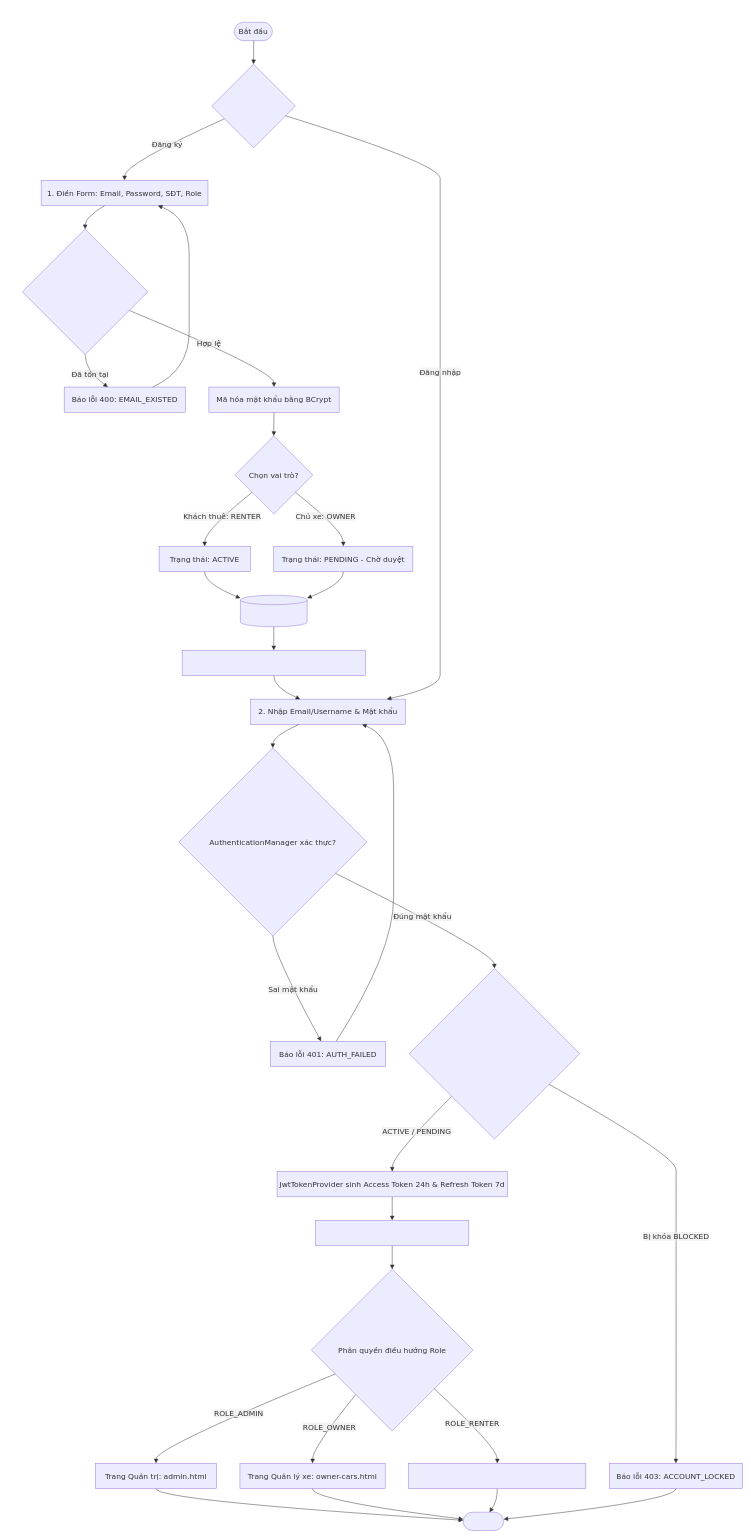
The diagram is 751 pixels wide and 1539 high, and some of its shapes have lost their labels. The shapes that lost their labels are listed below. From the top down, each one's box as (x1, y1, x2, y2) in pixels, then its label:
(211, 64, 295, 148): Chọn thao tác
(22, 229, 148, 355): Kiểm tra Email / SĐT?
(240, 595, 307, 627): Lưu vào Database
(182, 650, 365, 676): Đăng ký thành công ➔ Chuyển qua Đăng nhập
(409, 968, 580, 1139): Kiểm tra trạng thái tài khoản?
(315, 1220, 469, 1246): Frontend lưu Token vào LocalStorage
(408, 1463, 586, 1489): Trang Khách thuê: index.html / profile.html
(463, 1512, 504, 1531): Kết thúc
